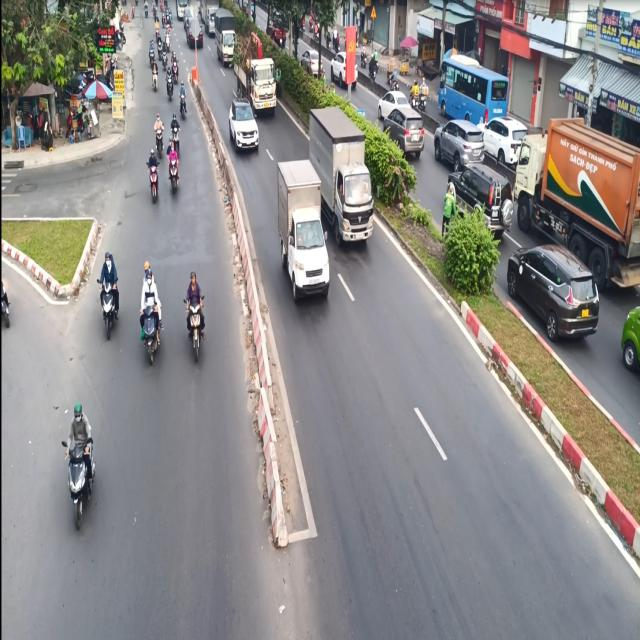car: (230, 92, 261, 162)
motor: (57, 398, 101, 529), (137, 255, 167, 366), (180, 259, 210, 369), (99, 250, 122, 350), (145, 146, 164, 209)
truck: (309, 98, 383, 251), (273, 153, 331, 313)
